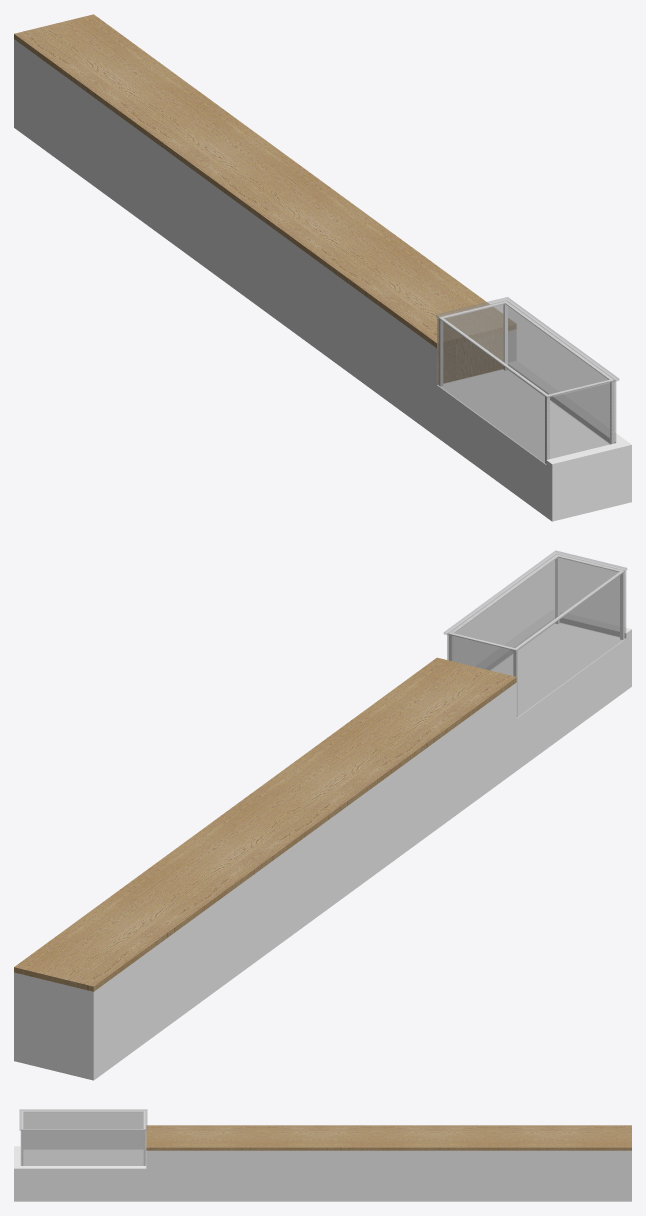
3 views of the same model, one above another, from view 1: azimuth 30°, elevation 25°; view 2: azimuth 150°, elevation 25°; view 3: azimuth 270°, elevation 25° (orthographic). The views are drawn at different scales.
Visible parts, largest first — view 1: Model; view 2: Model; view 3: Model.
Part boxes in pixels (x1=…): Model: x1=14, y1=14, x2=631, y2=521; Model: x1=14, y1=550, x2=631, y2=1080; Model: x1=14, y1=1109, x2=631, y2=1201.
Size of the model in its own units: 800 by 1170 by 9344.
